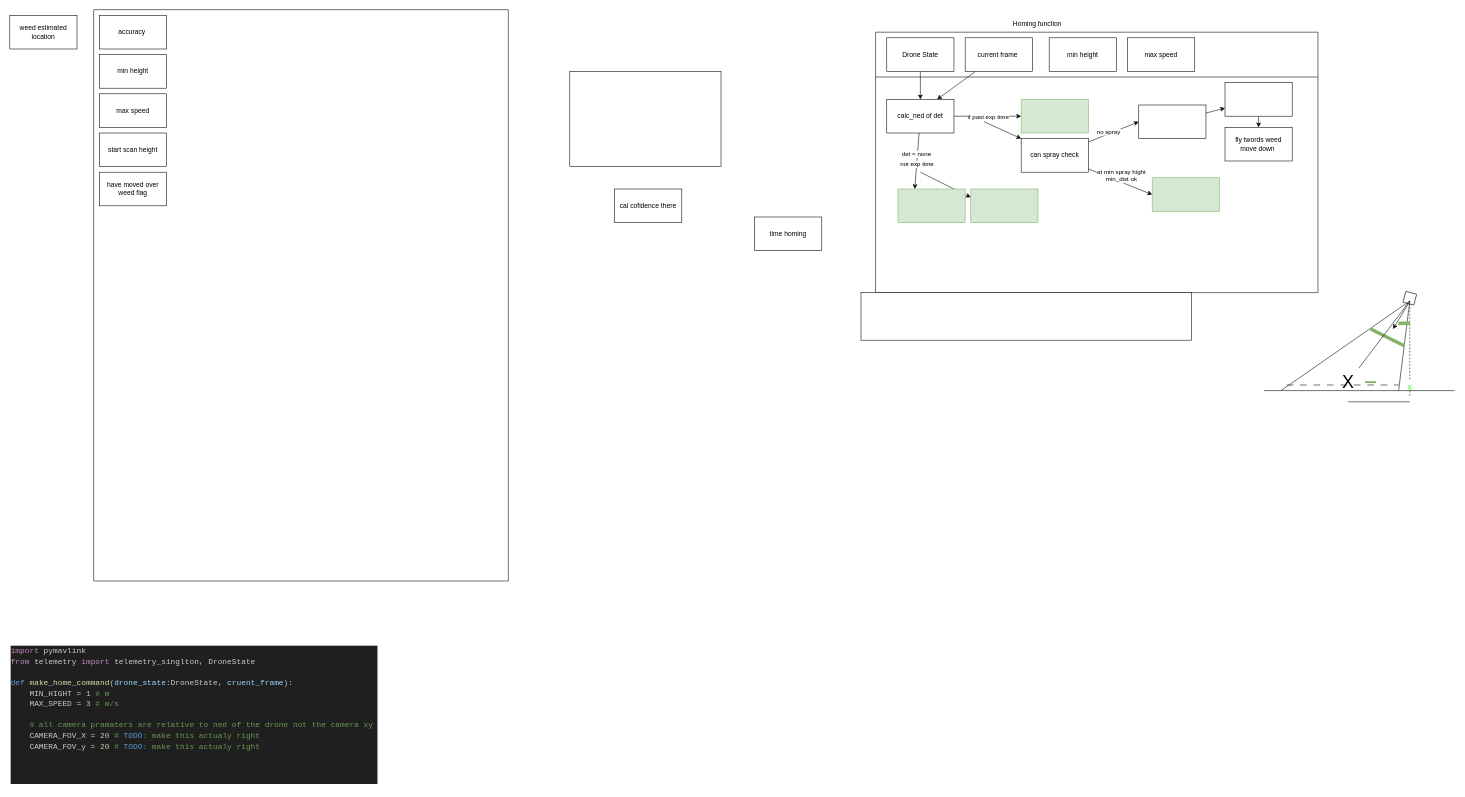
The diagram is 1465 pixels wide and 797 high, and some of its shapes have lost their labels. Each missing label, with the box of its shape:
calc speed: (1138, 104, 1206, 139)
dist down to move: (1224, 82, 1292, 116)
mark as miss GOTO: (970, 188, 1038, 223)
mark not sprayed GOTO: (1021, 99, 1088, 133)
move up fly twords go twords point: (897, 188, 965, 223)
spray weed goto: (1152, 177, 1219, 211)
volocity move command: (860, 292, 1191, 340)
